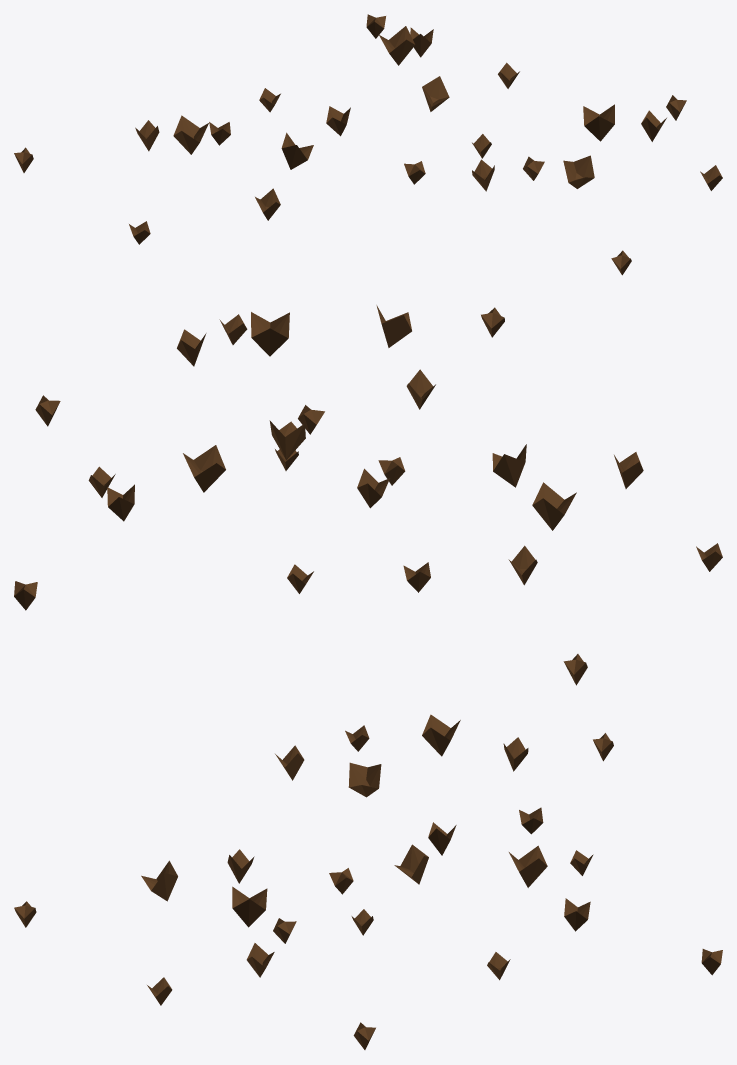
Rendered from SM_Flower_Random_Floating_Group_A.fbx.
3 renders of one model, top to bottom at view 1: azimuth 30°, elevation 25°; view 2: azimuth 150°, elevation 25°; view 3: azimuth 270°, elevation 25°, orthographic. The views are drawn at different scales.
Visible parts, largest first — view 1: flower-random-floating-group-a; view 2: flower-random-floating-group-a; view 3: flower-random-floating-group-a.
Boxes of the visible parts, x1,y1,x2,y2 form: flower-random-floating-group-a: [14, 14, 722, 275]; flower-random-floating-group-a: [14, 305, 722, 685]; flower-random-floating-group-a: [14, 714, 722, 1049].
Size of the model in its own units: 1.74 by 0.2487 by 1.75.
